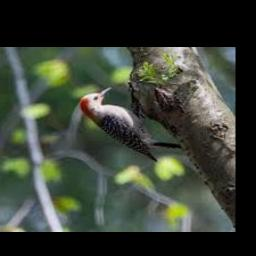Woodpecker: (81, 85, 183, 161)
